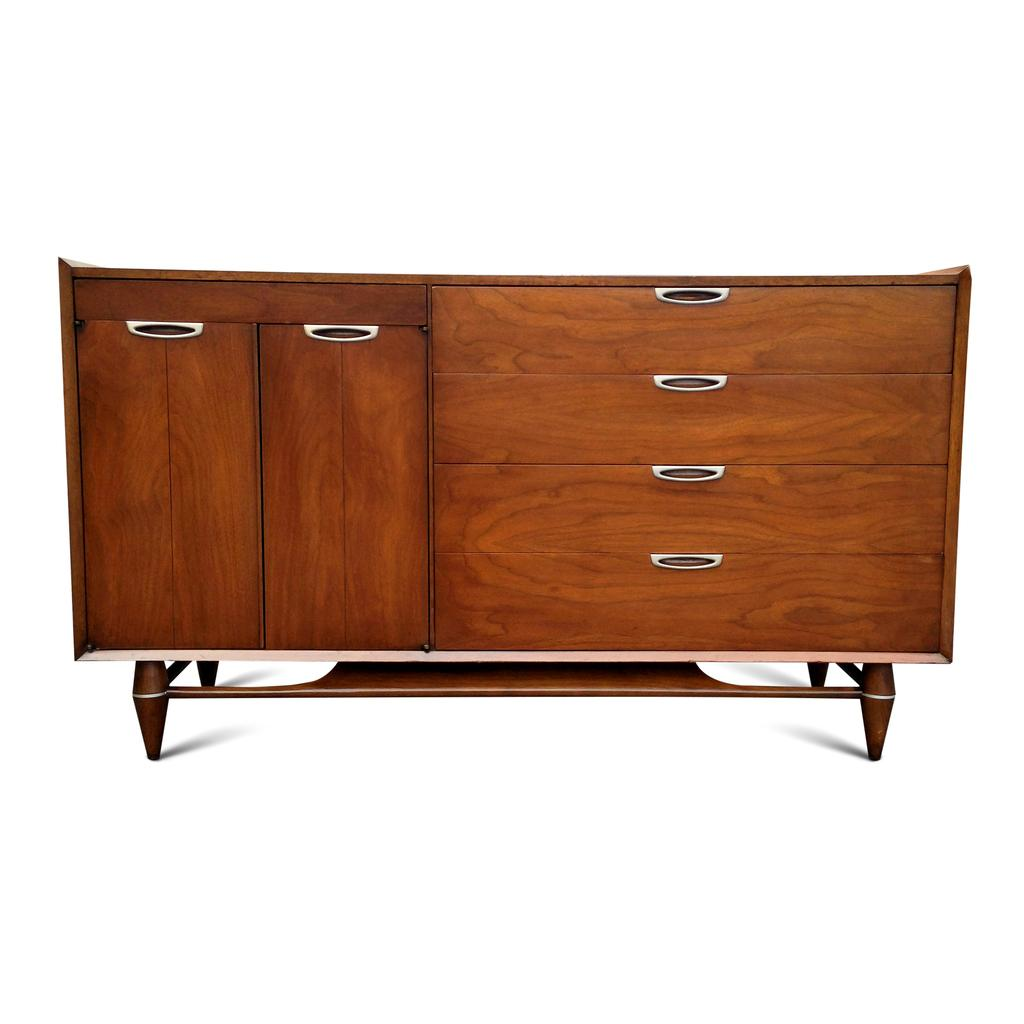cabinet_door: (80, 318, 258, 648), (254, 326, 434, 652), (436, 554, 941, 652), (433, 371, 948, 461), (431, 288, 951, 372), (434, 468, 944, 552)
handle: (648, 367, 734, 410), (124, 312, 206, 352), (647, 456, 727, 494), (654, 278, 734, 316), (300, 320, 382, 356), (648, 544, 726, 580)
